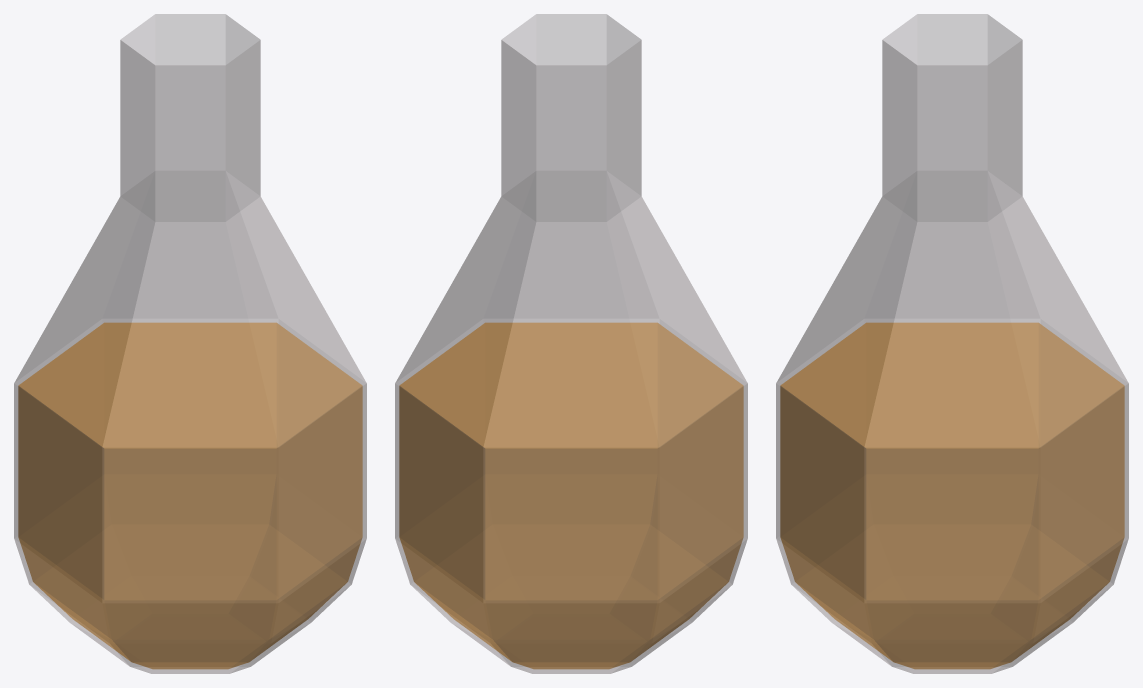
File: SomeLiquidInABottle.fbx
3 renders of one model, left to right at view 1: azimuth 30°, elevation 25°; view 2: azimuth 150°, elevation 25°; view 3: azimuth 270°, elevation 25°, orthographic.
Parts seen in each view (by area): view 1: Cylinder, Cylinder.001; view 2: Cylinder, Cylinder.001; view 3: Cylinder, Cylinder.001.
Part boxes in pixels (box(x1,y1,x2,y2)): Cylinder: box(14, 14, 366, 673); Cylinder.001: box(18, 322, 362, 669); Cylinder: box(395, 14, 747, 673); Cylinder.001: box(399, 322, 743, 669); Cylinder: box(776, 14, 1128, 673); Cylinder.001: box(780, 322, 1124, 669).
Bounding box in the file's own units: 392 × 858 × 453.
